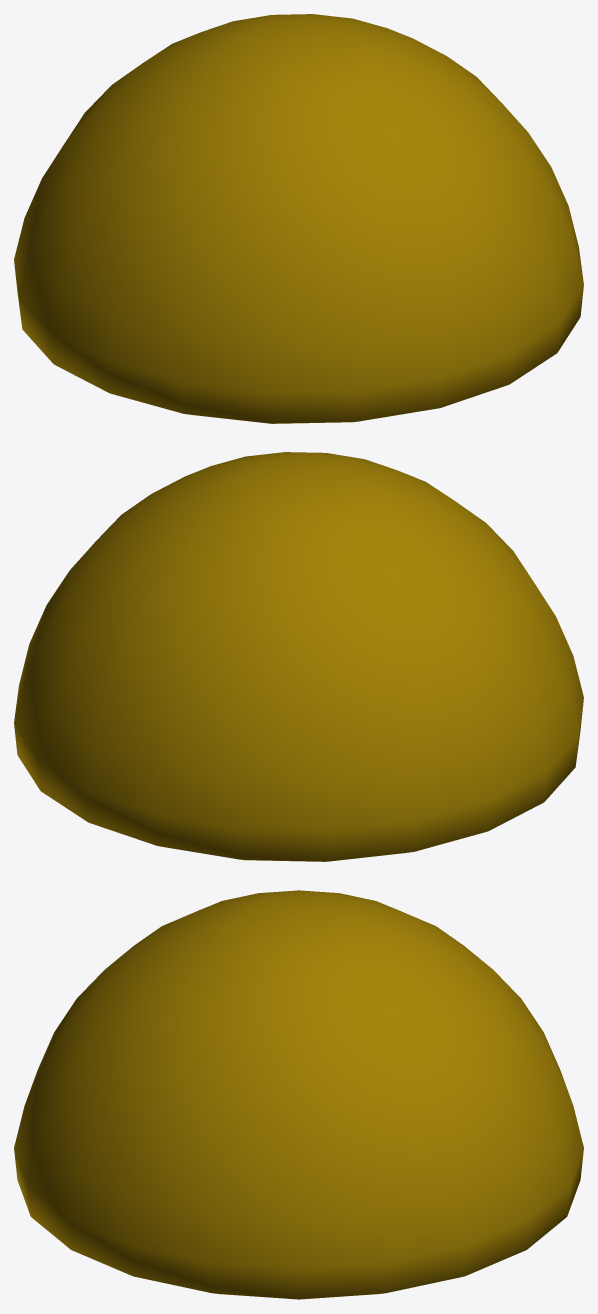
File: PanTapa.fbx
The picture shows the model from 3 angles, top to bottom: view 1: azimuth 30°, elevation 25°; view 2: azimuth 150°, elevation 25°; view 3: azimuth 270°, elevation 25°; orthographic projection.
Parts seen in each view (by area): view 1: polySurface62; view 2: polySurface62; view 3: polySurface62.
Part boxes in pixels (<box>): polySurface62: <box>14,14,583,423</box>; polySurface62: <box>14,452,583,861</box>; polySurface62: <box>14,890,583,1299</box>.
Bounding box in the file's own units: 4.78 × 2.55 × 4.77.
